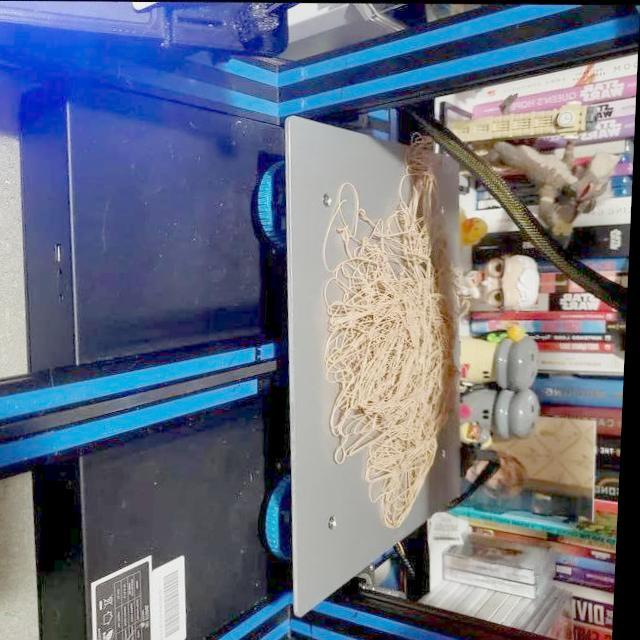spaghetti: (335, 255, 440, 452), (405, 166, 451, 258), (380, 445, 424, 509), (349, 211, 403, 262)
